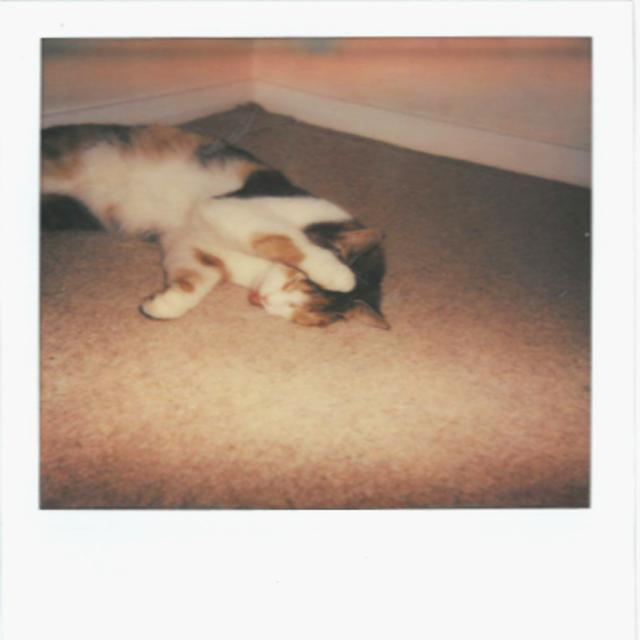Cat: (41, 113, 390, 328)
